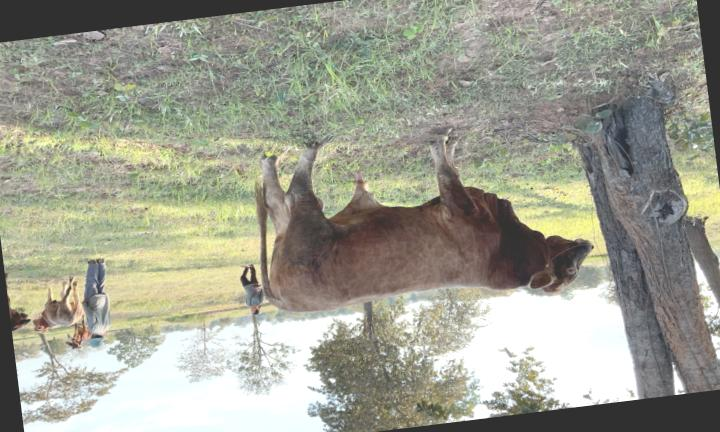Charolais: (256, 129, 592, 312)
